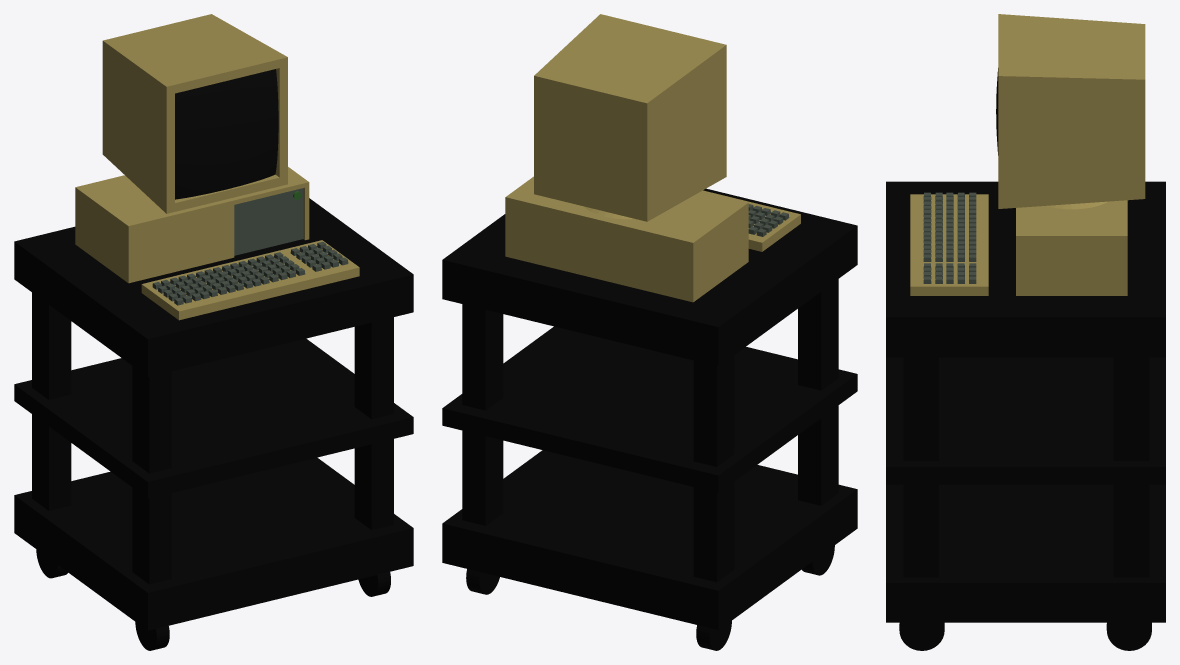
The model's file is computer_and_cart.glb.
The picture shows the model from 3 angles, left to right: view 1: azimuth 30°, elevation 25°; view 2: azimuth 150°, elevation 25°; view 3: azimuth 270°, elevation 25°; orthographic projection. The views are drawn at different scales.
Visible parts, largest first — view 1: Cube, computer, Screen; view 2: Cube, computer; view 3: Cube, computer.
Part boxes in pixels (x1,y1,x2,y2): Cube: (14, 198, 413, 650); computer: (75, 14, 359, 320); Screen: (175, 69, 278, 199); Cube: (442, 188, 857, 650); computer: (505, 14, 800, 302); Cube: (886, 181, 1165, 650); computer: (910, 14, 1145, 295).
Size of the model in its own units: 4.38 by 8.21 by 3.81.
